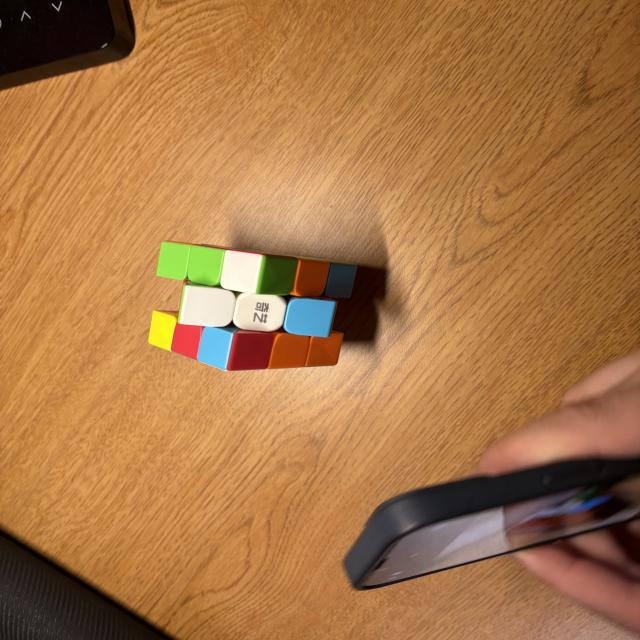Rubiks Cube: (147, 242, 355, 371)
